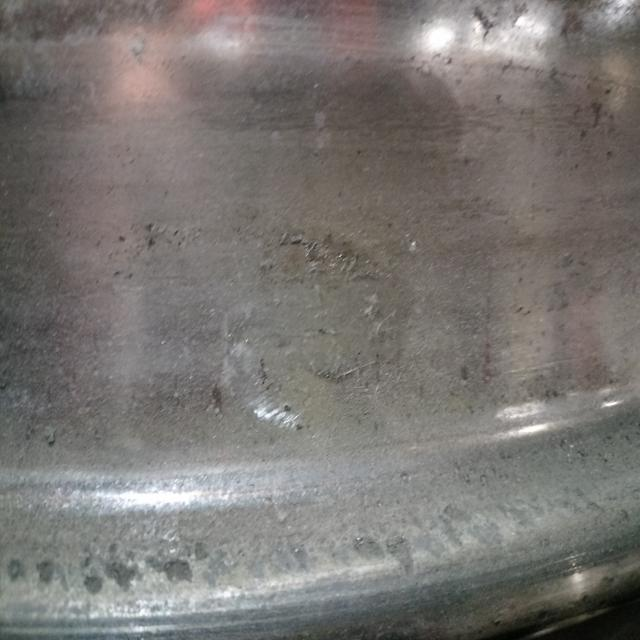Rollerpile: (139, 223, 407, 432)
